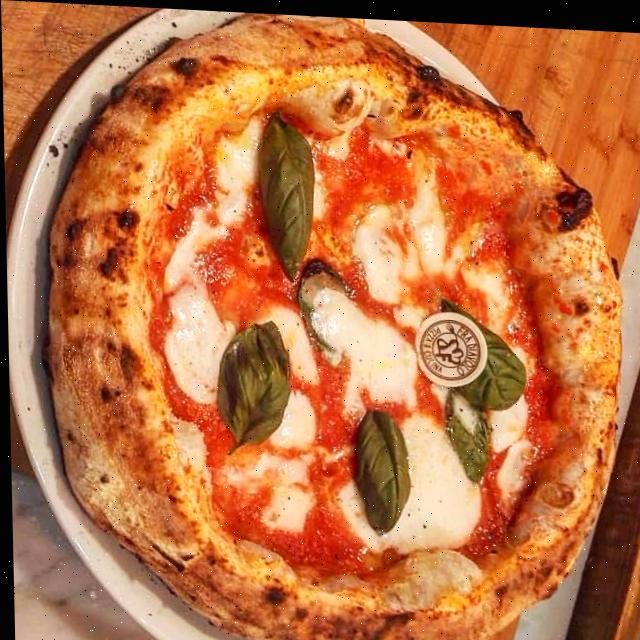basil: (211, 313, 294, 458), (428, 290, 527, 410), (254, 101, 318, 280), (347, 402, 413, 534), (292, 251, 345, 357), (442, 383, 492, 482)
pizza: (29, 1, 630, 640)
